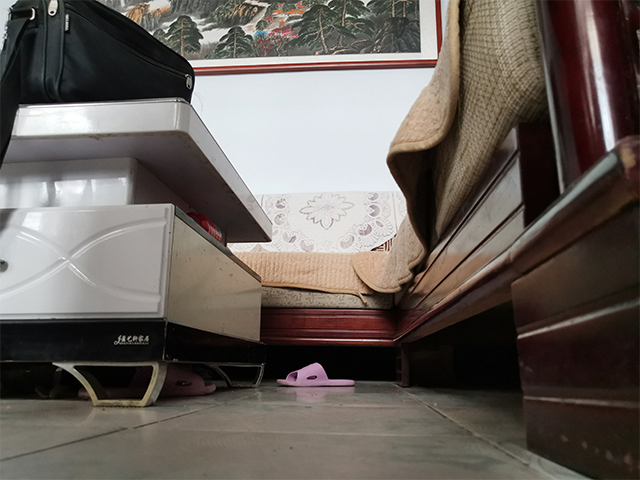slippers: (274, 361, 359, 388)
sofa: (223, 1, 639, 479)
table: (1, 96, 276, 408)
